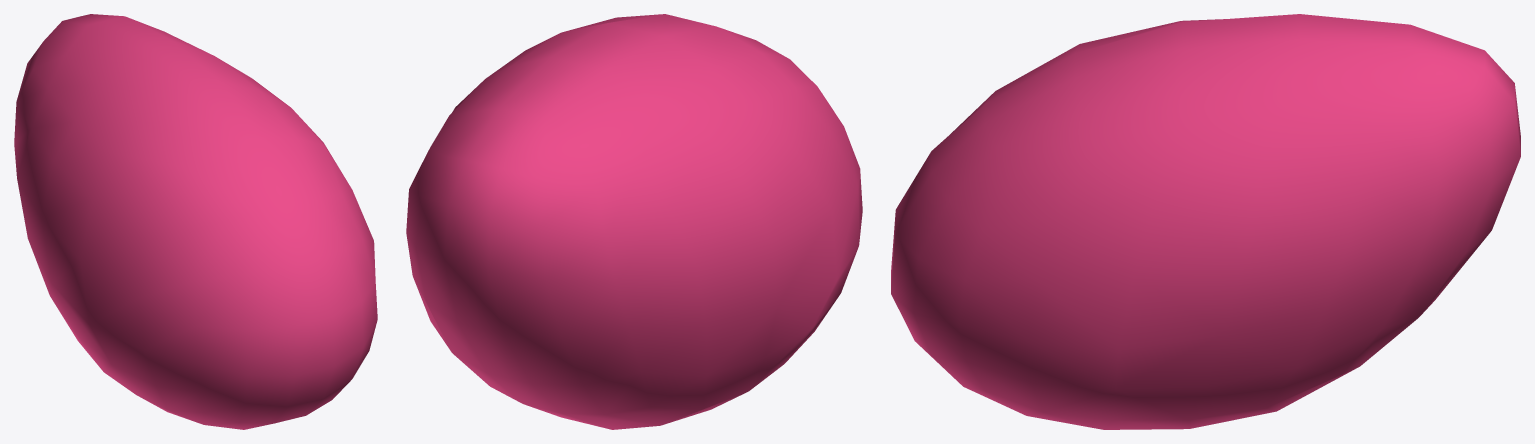
Rendered from bunda.fbx.
3 renders of one model, left to right at view 1: azimuth 30°, elevation 25°; view 2: azimuth 150°, elevation 25°; view 3: azimuth 270°, elevation 25°, orthographic. The views are drawn at different scales.
Parts seen in each view (by area): view 1: Formiga.005; view 2: Formiga.005; view 3: Formiga.005.
Part boxes in pixels (box(x1,y1,x2,y2)): Formiga.005: box(14, 14, 377, 429); Formiga.005: box(406, 14, 862, 429); Formiga.005: box(891, 14, 1520, 429).
Bounding box in the file's own units: 367 × 398 × 590.
